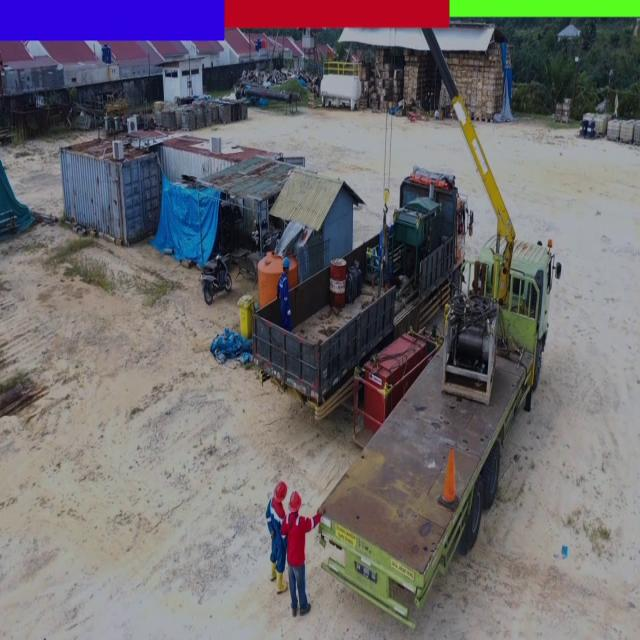Hardhat: (288, 492, 301, 514), (274, 481, 286, 504), (281, 256, 291, 270), (386, 218, 392, 228)
No Glove: (319, 505, 326, 515)
No Overall Suit: (280, 514, 320, 604), (278, 273, 292, 332)
Overall Suit: (266, 498, 287, 572)
Safety Boots: (275, 571, 288, 595), (269, 559, 277, 581), (384, 280, 392, 292), (371, 272, 377, 288)
